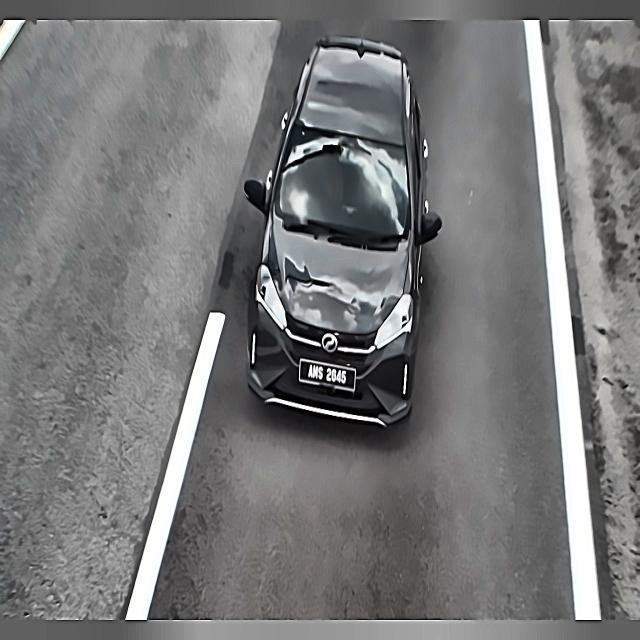car: (292, 355, 363, 398)
